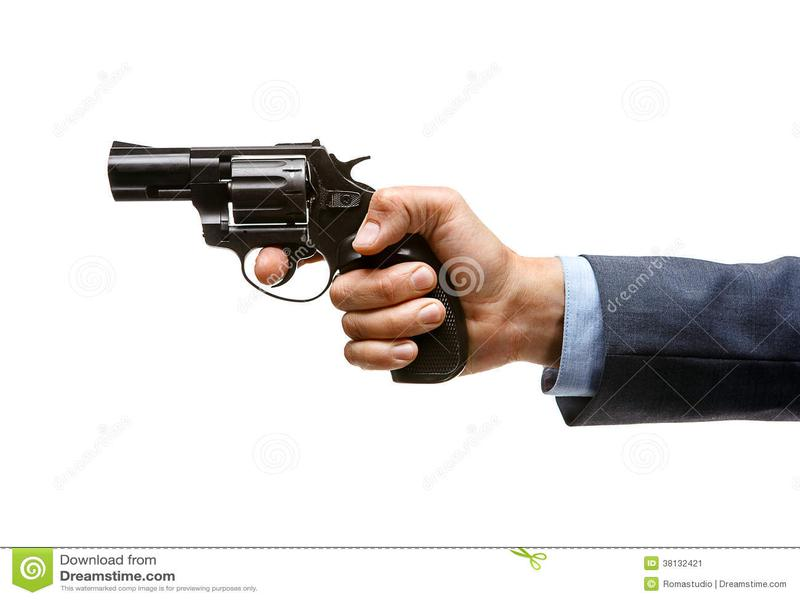Revolver: (105, 94, 473, 384)
